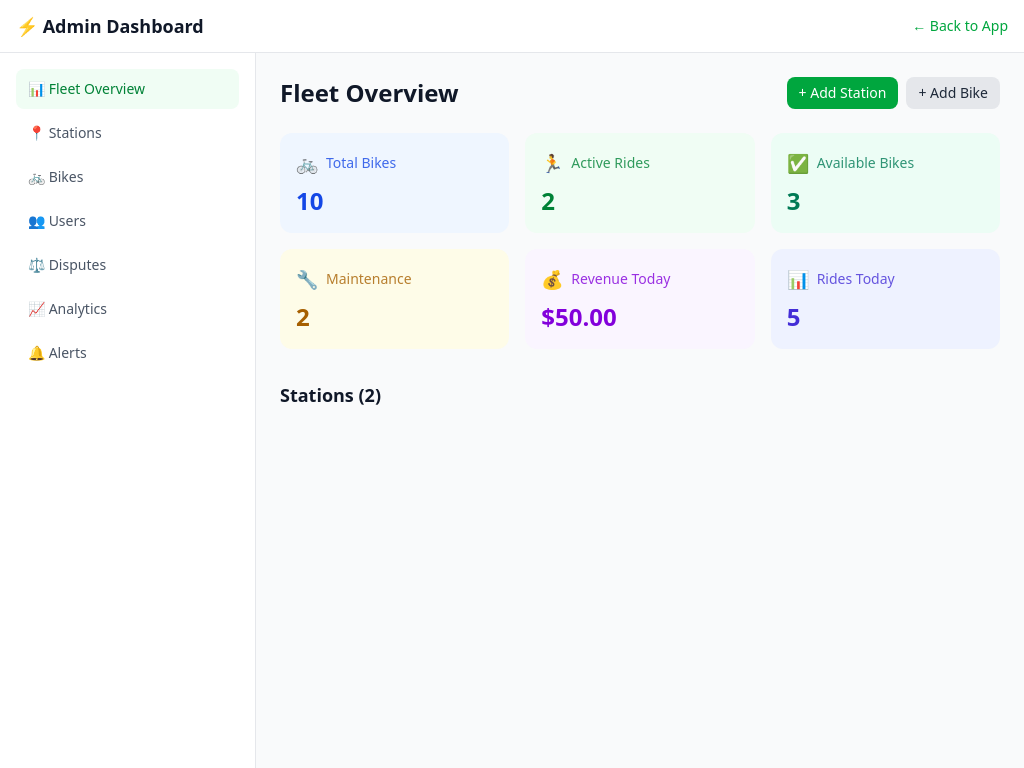
Test: FleetOverview › navigates to bikes page via Add Bike button
Click the button "+ Add Bike". click: (953, 93)
box: [906,77,1000,109]
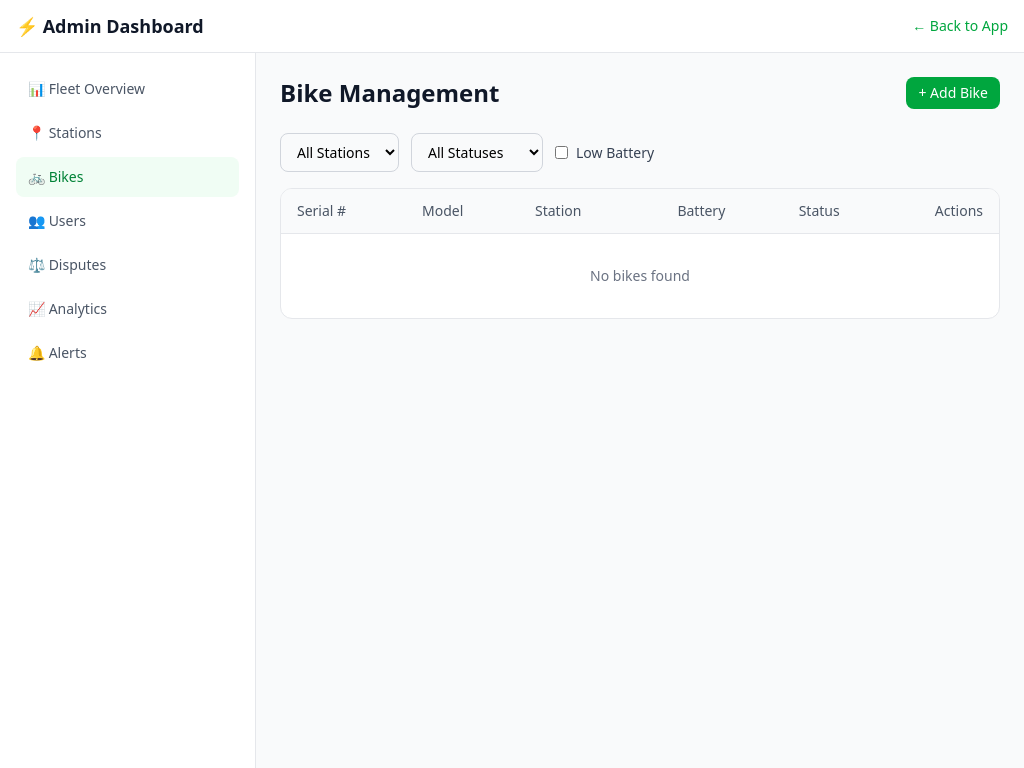
Result: the heading "Bike Management" is shown at [280,77,500,109]
